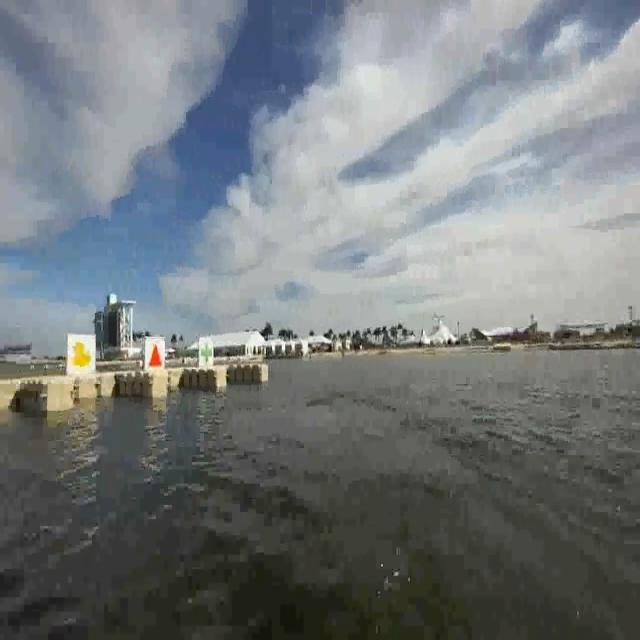blue-cross: (202, 336, 214, 371)
yellow-duck: (68, 334, 99, 376)
